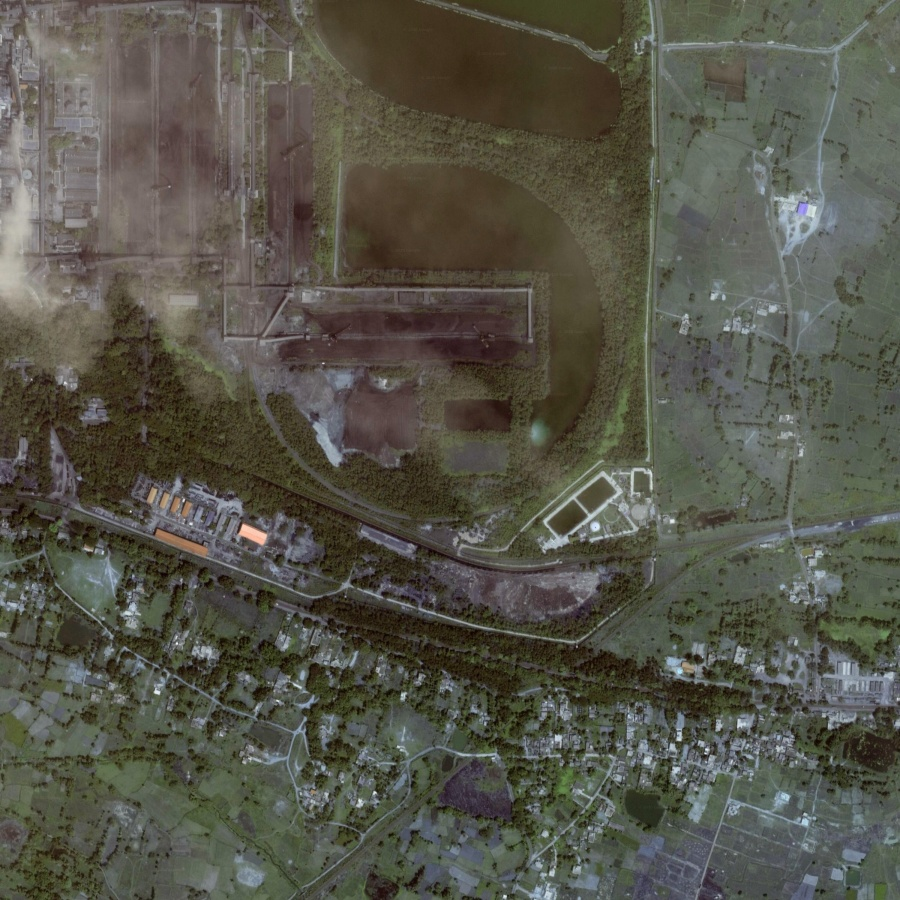PowerPlant: (259, 286, 543, 472)
